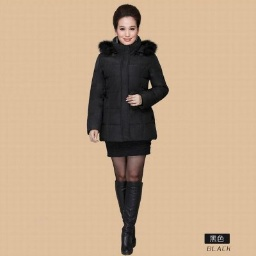face: (112, 4, 142, 46)
